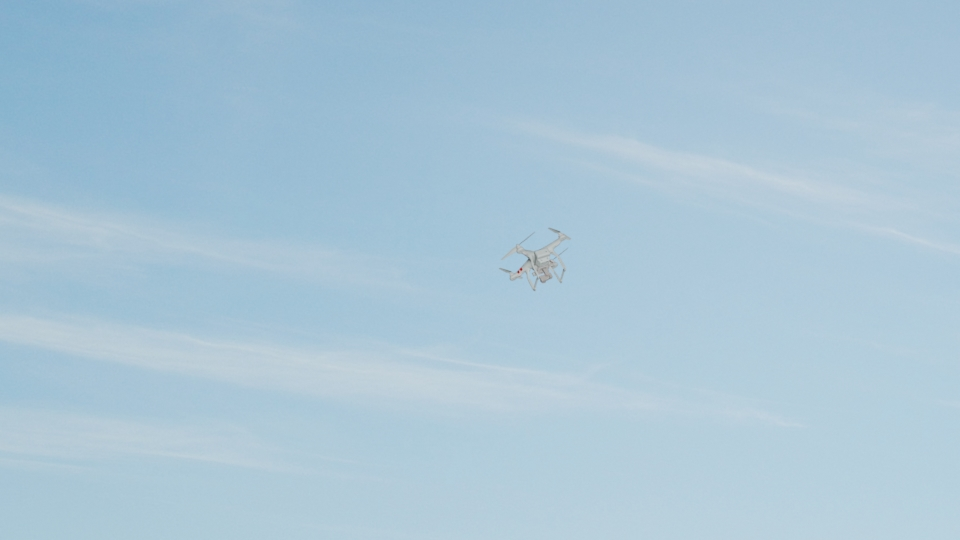drone: (499, 228, 575, 290)
